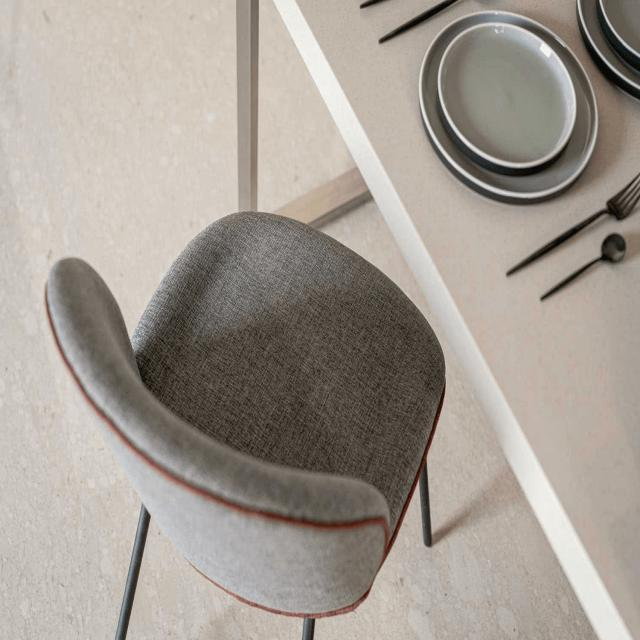chair: (41, 207, 450, 640)
